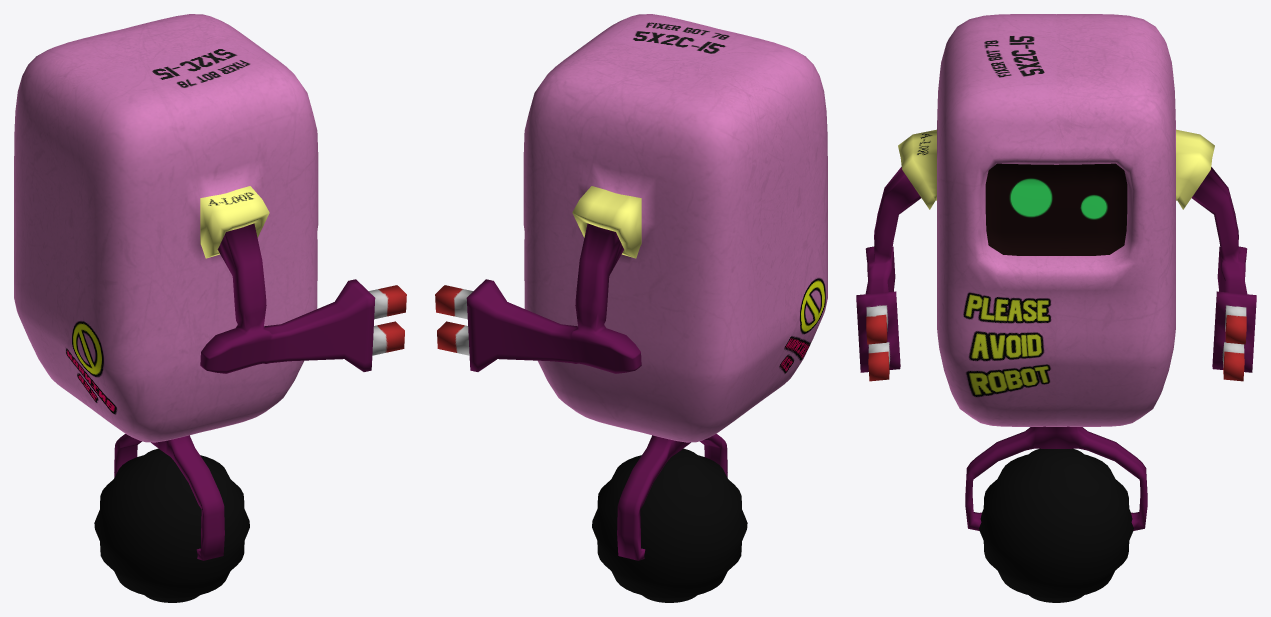
Rendered from Final Robot 1.fbx.
The picture shows the model from 3 angles, left to right: view 1: azimuth 30°, elevation 25°; view 2: azimuth 150°, elevation 25°; view 3: azimuth 270°, elevation 25°; orthographic projection.
Parts seen in each view (by area): view 1: Cube, Sphere; view 2: Cube, Sphere; view 3: Cube, Sphere.
Boxes of the visible parts, x1,y1,x2,y2 form: Cube: (14,14,406,560); Sphere: (94,448,249,602); Cube: (435,14,827,560); Sphere: (592,448,747,602); Cube: (856,14,1256,530); Sphere: (979,448,1133,602).
Bounding box in the file's own units: 230 × 465 × 311.
